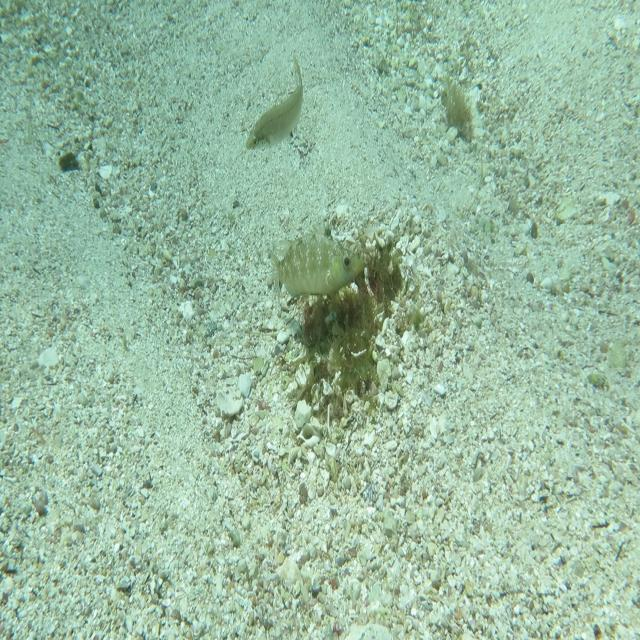FAN: (270, 216, 366, 303)
core_nest: (344, 254, 384, 293)
female: (245, 55, 303, 152)
nest: (274, 211, 403, 423)
vegetation: (440, 72, 473, 143), (57, 150, 79, 174)
